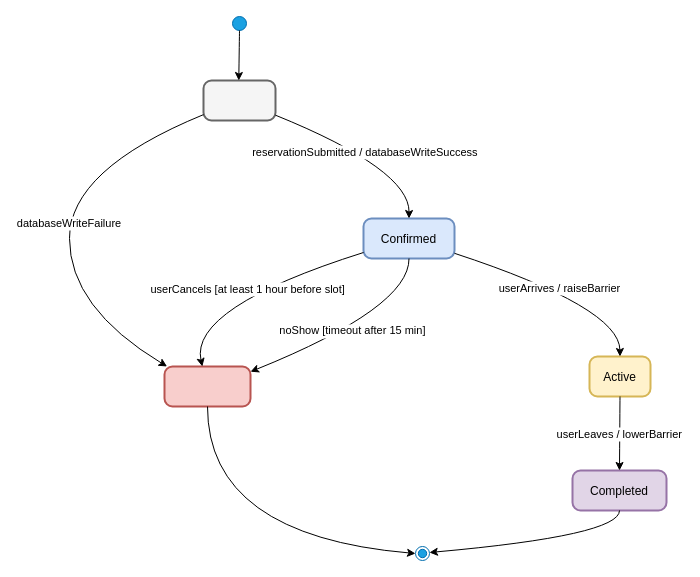
The diagram is 700 pixels wide and 577 high, and some of its shapes have lost their labels. The centre of each missing label's shape, as x and y in pixels:
"Cancelled" goes at [207,386].
"Pending" goes at [239,100].
